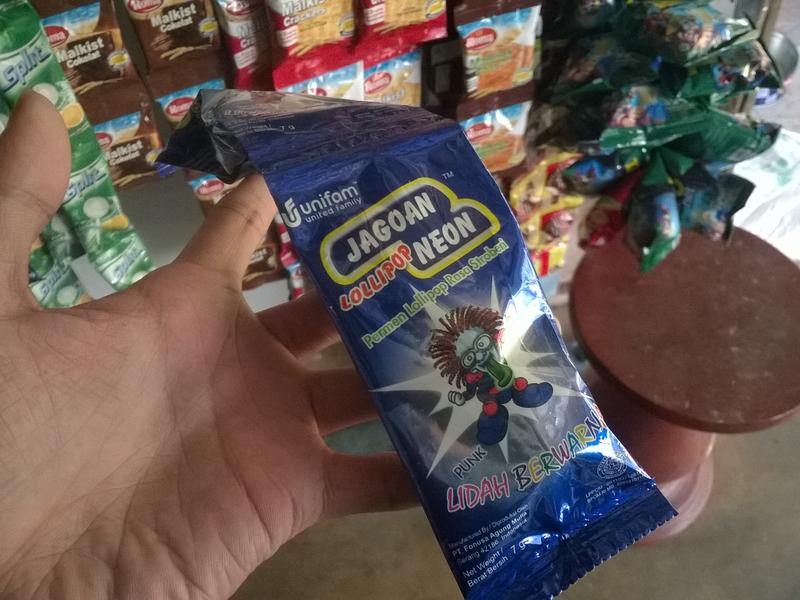jagoan neon: (263, 115, 681, 600)
